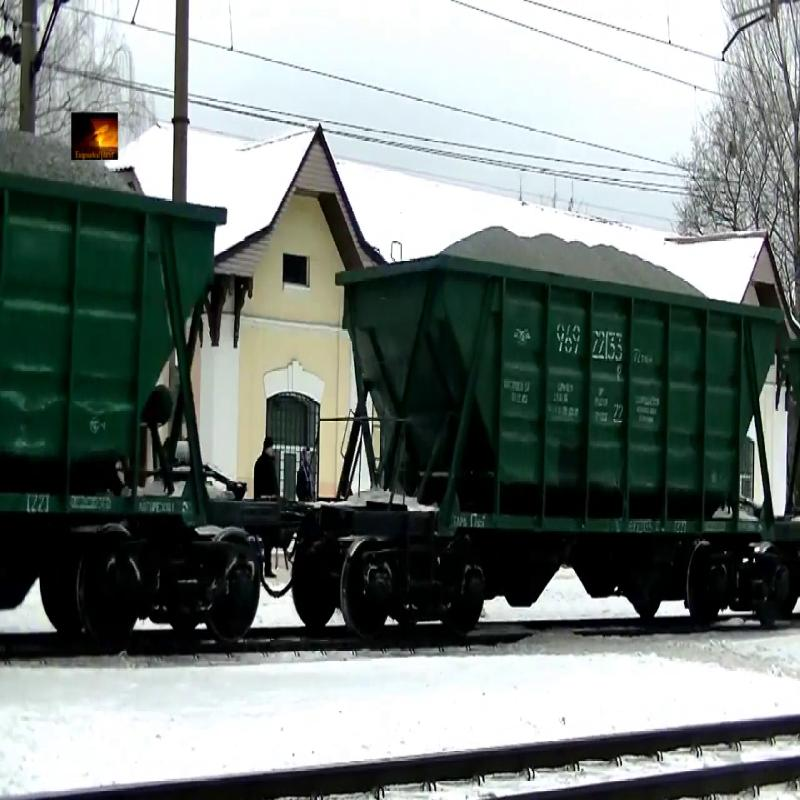train: (330, 232, 800, 647), (1, 137, 234, 643)
